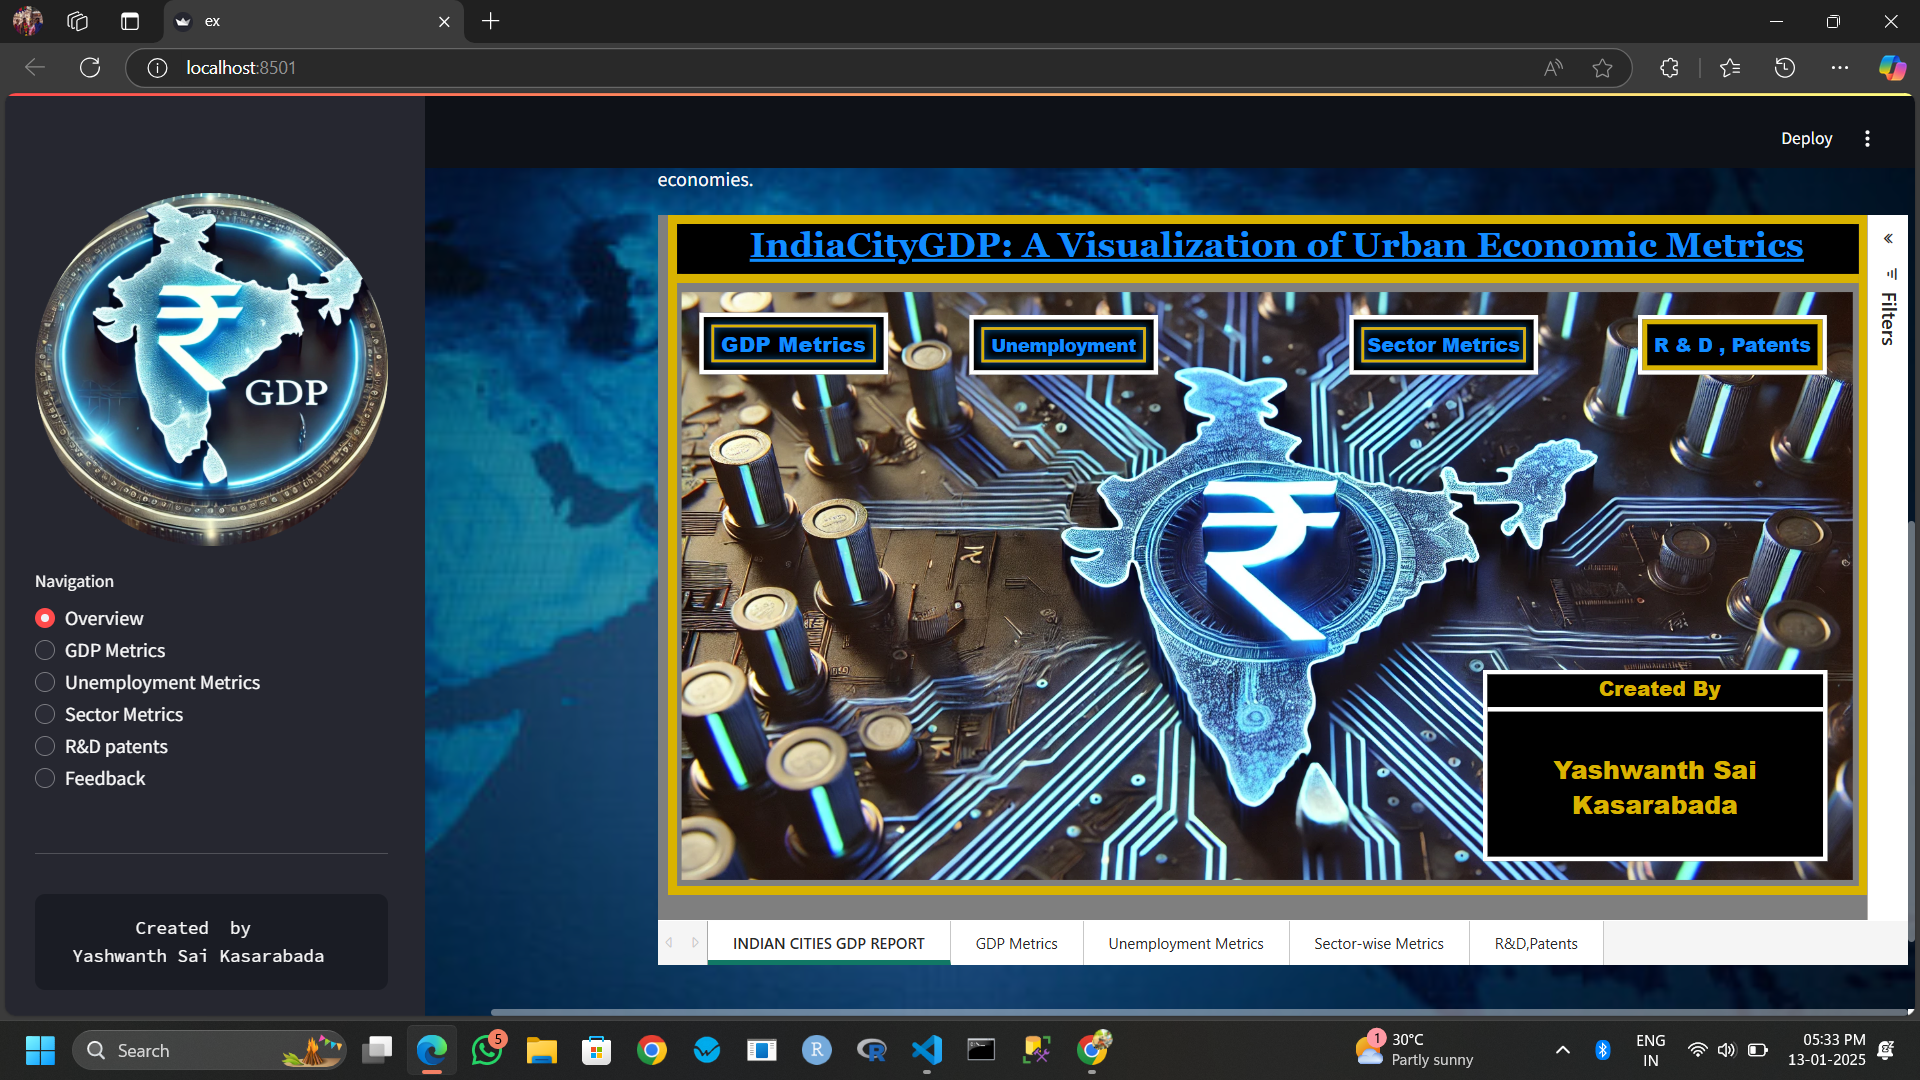

This screenshot's page, from the dashboard's own definition file:
{"tool":"powerbi","page":{"name":"INDIAN CITIES GDP REPORT","canvas":[1280,720],"ordinal":0},"visuals":[{"type":"image","title":"IndiaCityGDP: A Visualization of Urban Economic Metrics","box":[10,0,1270,720],"z":0},{"type":"actionButton","box":[43.5,103.2,200.3,65.9],"z":1000},{"type":"bookmarkNavigator","box":[0,0,600,50],"z":2000},{"type":"actionButton","box":[329.6,105.7,200.3,63.4],"z":3000},{"type":"actionButton","box":[731.4,105.7,200.3,63.4],"z":4000},{"type":"actionButton","box":[1037.5,105.7,200.3,63.4],"z":5000},{"type":"actionButton","title":"Created By","box":[873.3,481.4,364.5,202.8],"z":6000}]}

Visuals, with their boxes on the page's 1280x720 design canvas (x1, y1, x2, y2). These are canvas units, not pixel positions in the 1920x1080 screenshot, which may show the page scaled, cropped or inside an application window:
"IndiaCityGDP: A Visualization of Urban Economic Metrics" image: {"left": 10, "top": 0, "right": 1280, "bottom": 720}
actionButton: {"left": 44, "top": 103, "right": 244, "bottom": 169}
bookmarkNavigator: {"left": 0, "top": 0, "right": 600, "bottom": 50}
actionButton: {"left": 330, "top": 106, "right": 530, "bottom": 169}
actionButton: {"left": 731, "top": 106, "right": 932, "bottom": 169}
actionButton: {"left": 1038, "top": 106, "right": 1238, "bottom": 169}
"Created By" actionButton: {"left": 873, "top": 481, "right": 1238, "bottom": 684}
